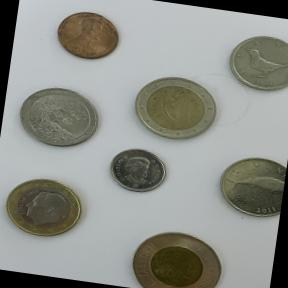1 Euro-B: (0, 168, 91, 243)
2 Euro-B: (123, 66, 226, 150)
Canada-10cent-B: (101, 140, 171, 198)
Canada-2Dollar-B: (122, 220, 232, 288)
Croatia-2Kune-B: (208, 148, 288, 225)
US-1cent-B: (48, 4, 126, 68)
US-25cent-B: (12, 79, 106, 156)
